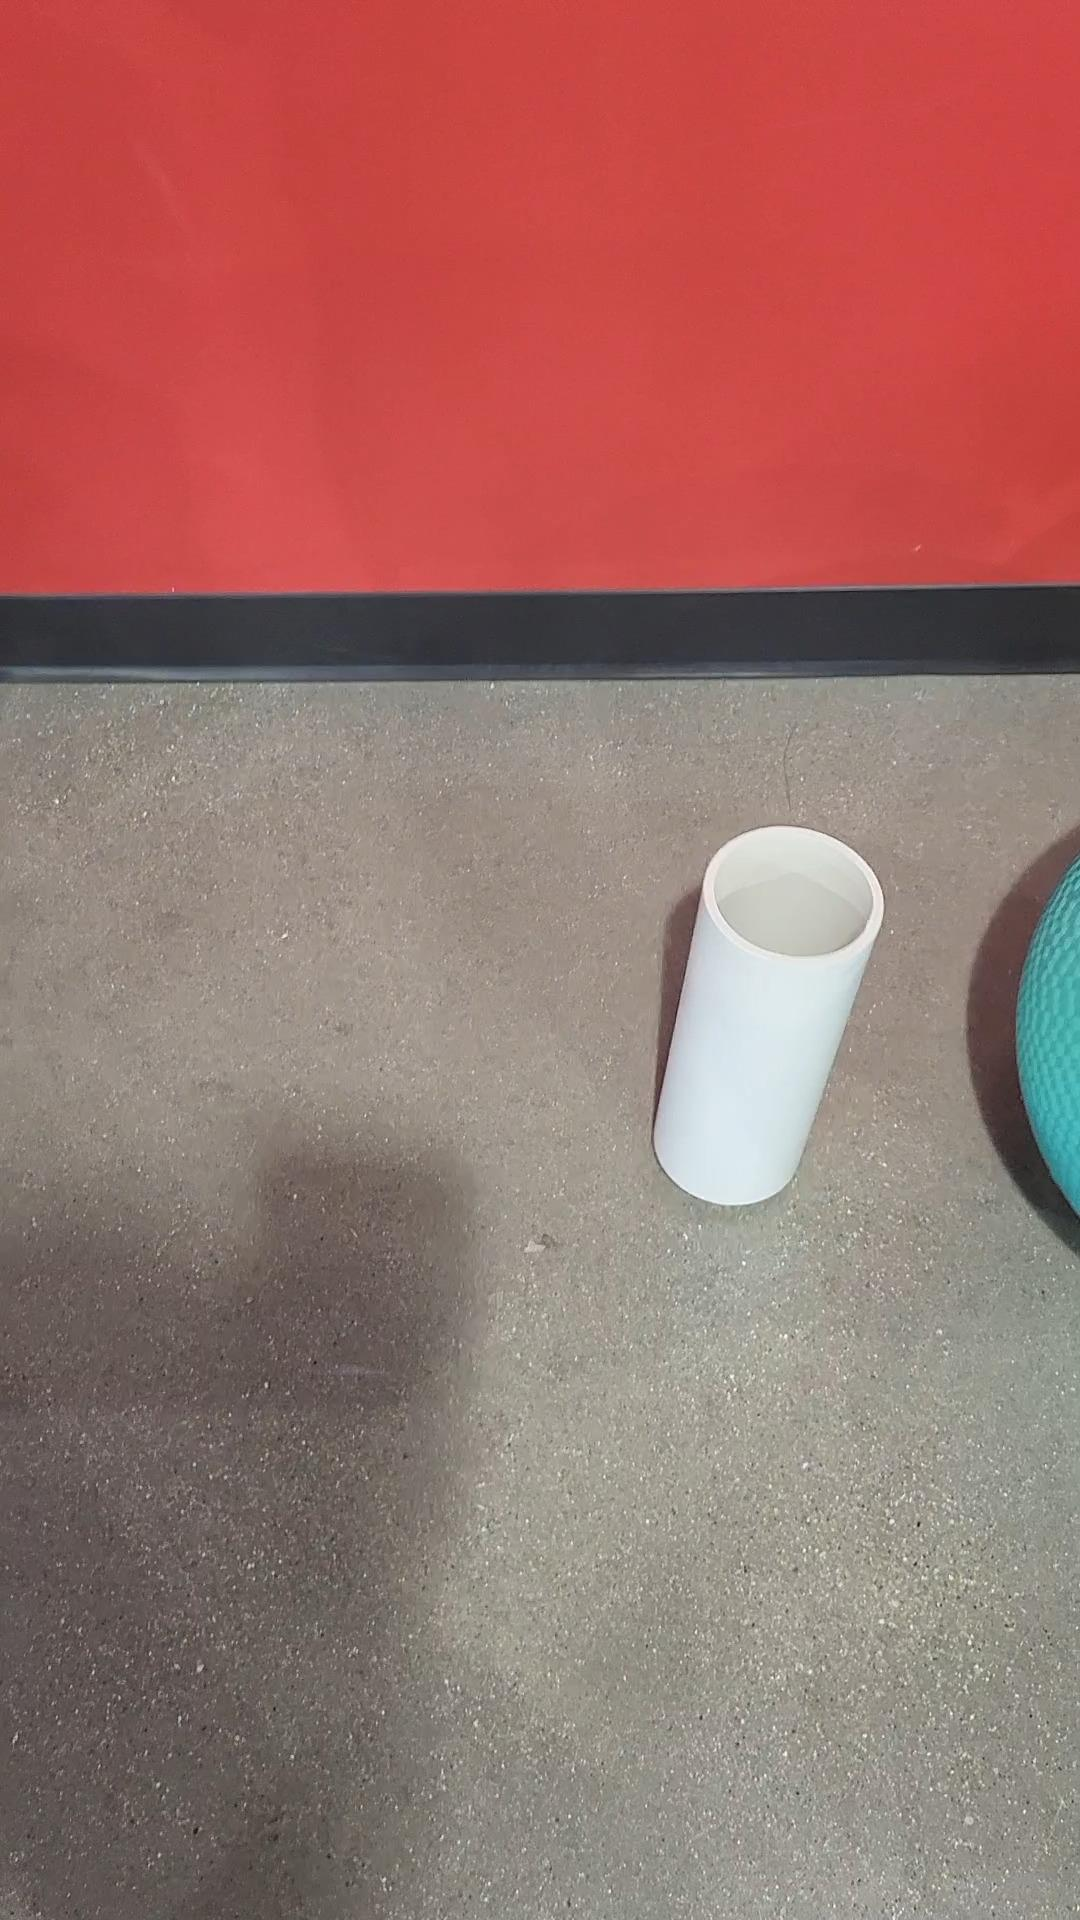algae: (1011, 849, 1079, 1245)
coral: (655, 819, 887, 1208)
